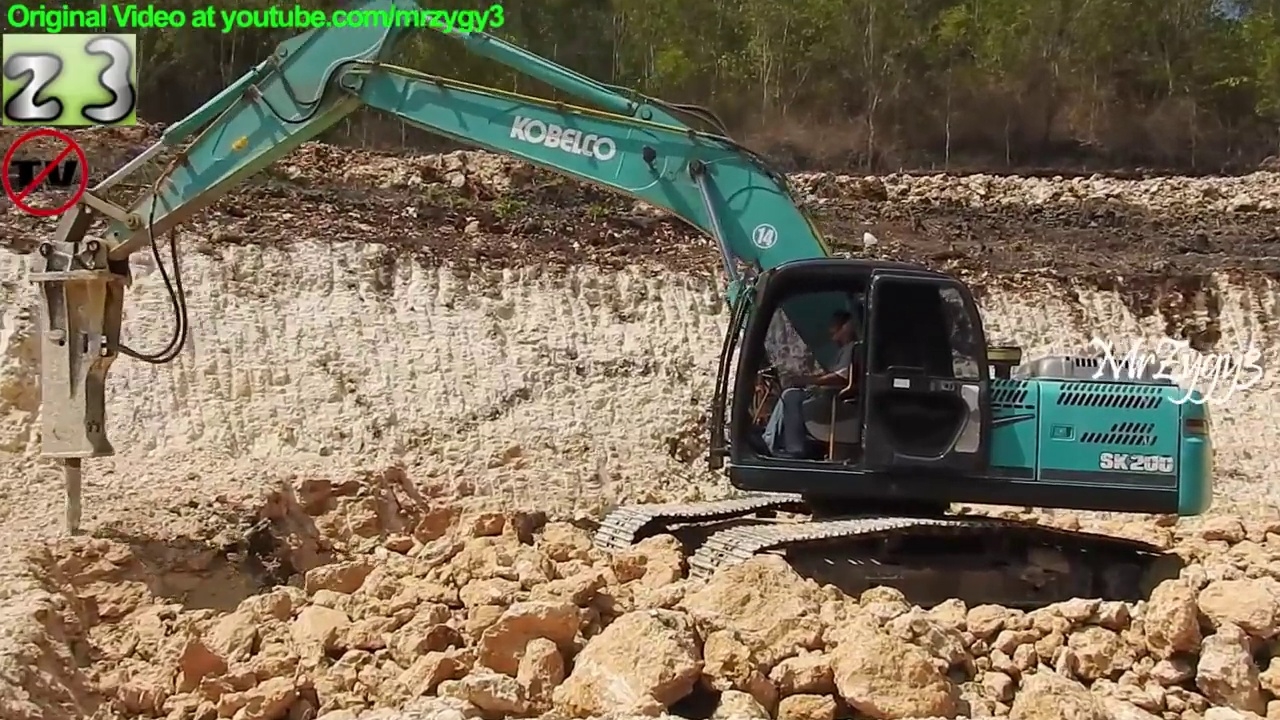excavator breaker: (23, 1, 1220, 617)
